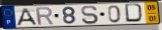0: (108, 5, 122, 23)
8: (61, 6, 77, 25)
A: (15, 8, 38, 27)
D: (124, 3, 146, 24)
R: (34, 6, 55, 27)
S: (80, 5, 100, 25)
